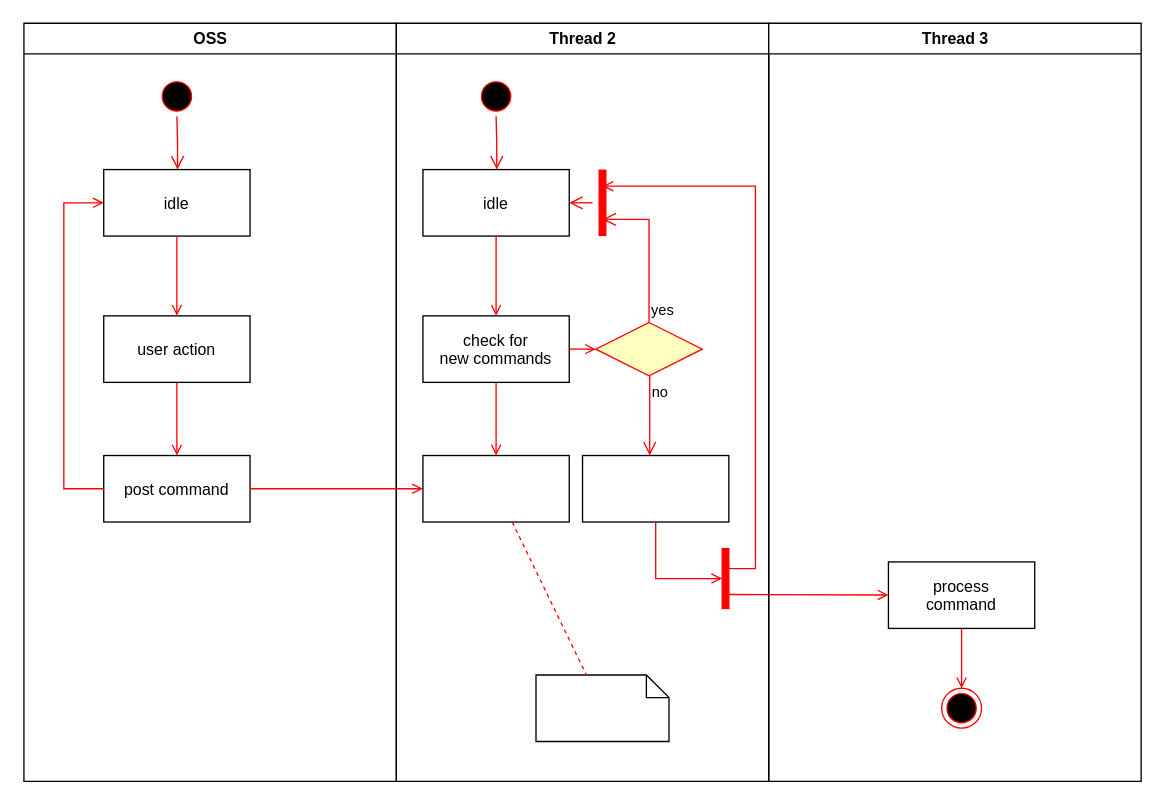
Image size: 1164x805. Some labels were removed from this diagram. The centre of each missing label's shape, as x and y in pixels:
"command queue" belongs at (495,488).
"critical section" belongs at (602,707).
"dispatch command worker thread" belongs at (655,488).
"queue empty" belongs at (648,348).
